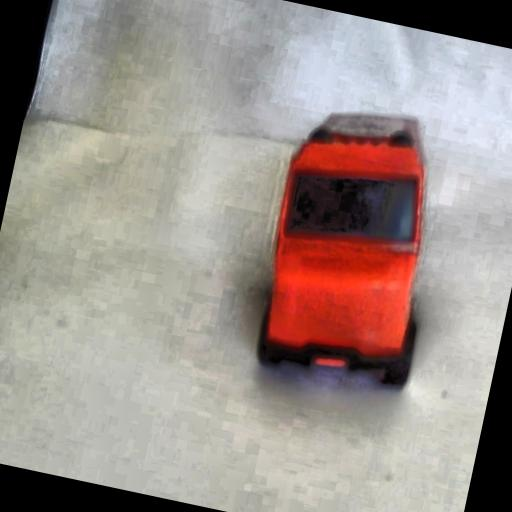fire_truck: (244, 94, 462, 396)
